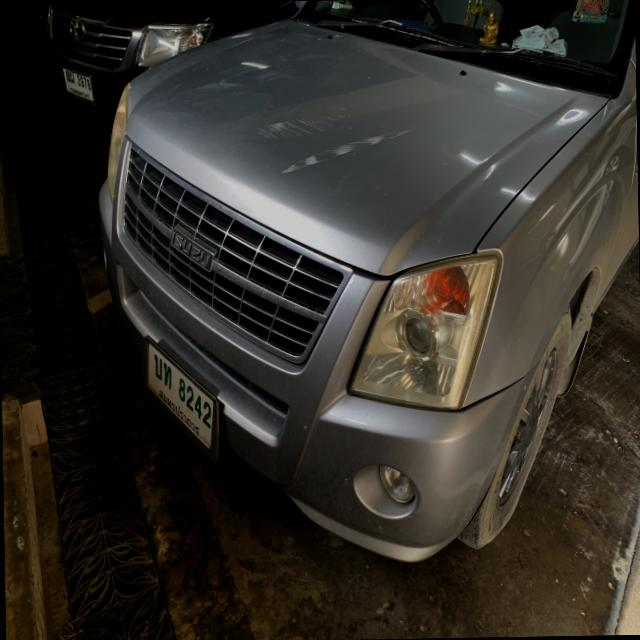license_plate: (140, 326, 222, 466)
